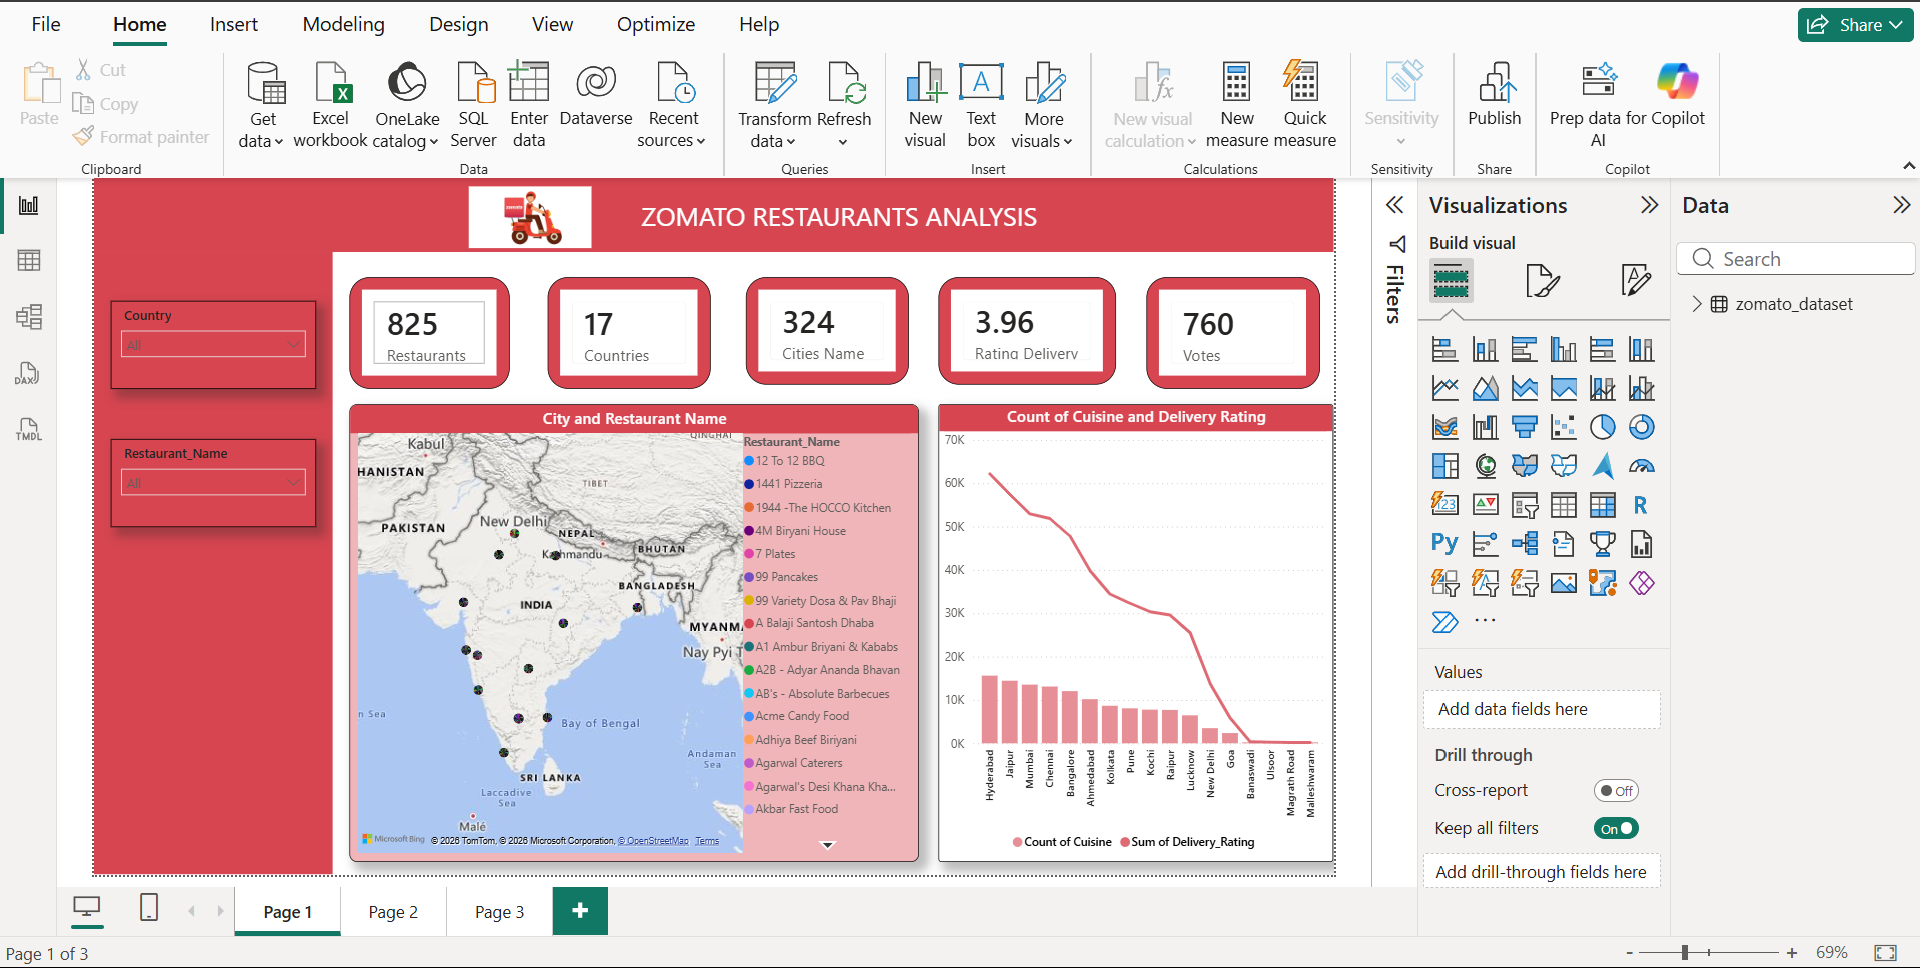

What the dashboard file says about the page in this screenshot:
{"tool":"powerbi","page":{"name":"Page 1","canvas":[1280,720],"ordinal":0},"visuals":[{"type":"shape","box":[0,0,1280.1,76.4],"z":0},{"type":"textbox","box":[520.4,15.9,498.8,47.6],"z":1000},{"type":"cardVisual","fields":{"Data":["Count(zomato_dataset.Restaurant_Name)"]},"box":[263.8,102.4,165.8,115.3],"z":2000},{"type":"shape","box":[0,76.4,246.5,642.9],"z":3000},{"type":"cardVisual","fields":{"Data":["Count(zomato_dataset.City)"]},"box":[468.5,102.4,168.7,115.3],"z":4000},{"type":"cardVisual","fields":{"Data":["Count(zomato_dataset.Place_Name)"]},"box":[673.2,102.4,168.7,111],"z":5000},{"type":"cardVisual","fields":{"Data":["Avg(zomato_dataset.Delivery_Rating)"]},"box":[872.2,102.4,183.1,111],"z":6000},{"type":"cardVisual","fields":{"Data":["Count(zomato_dataset.Votes)"]},"box":[1086.9,102.4,178.8,115.3],"z":7000},{"type":"map","title":"City and  Restaurant Name","fields":{"Category":["zomato_dataset.City"],"Series":["zomato_dataset.Restaurant_Name"]},"box":[263.8,233.5,588.2,472.8],"z":8000},{"type":"lineStackedColumnComboChart","title":"Count of Cuisine and Delivery Rating","fields":{"Category":["zomato_dataset.City"],"Y2":["Sum(zomato_dataset.Delivery_Rating)"],"Y":["CountNonNull(zomato_dataset.Cuisine )"]},"box":[872.2,233.5,408,472.8],"z":9000},{"type":"image","box":[380.6,8.6,139.8,63.4],"z":10000},{"type":"slicer","fields":{"Values":["zomato_dataset.City"]},"box":[17.3,126.9,211.9,90.8],"z":11000},{"type":"slicer","fields":{"Values":["zomato_dataset.Restaurant_Name"]},"box":[17.3,269.6,211.9,90.8],"z":11001}]}

Visuals, with their boxes on the page's 1280x720 design canvas (x1, y1, x2, y2). These are canvas units, not pixel positions in the 1920x968 screenshot, which may show the page scaled, cropped or inside an application window:
shape: [left=0, top=0, right=1280, bottom=76]
textbox: [left=520, top=16, right=1019, bottom=64]
cardVisual - Count(zomato_dataset.Restaurant_Name): [left=264, top=102, right=430, bottom=218]
shape: [left=0, top=76, right=246, bottom=719]
cardVisual - Count(zomato_dataset.City): [left=468, top=102, right=637, bottom=218]
cardVisual - Count(zomato_dataset.Place_Name): [left=673, top=102, right=842, bottom=213]
cardVisual - Avg(zomato_dataset.Delivery_Rating): [left=872, top=102, right=1055, bottom=213]
cardVisual - Count(zomato_dataset.Votes): [left=1087, top=102, right=1266, bottom=218]
"City and  Restaurant Name" map: [left=264, top=234, right=852, bottom=706]
"Count of Cuisine and Delivery Rating" lineStackedColumnComboChart: [left=872, top=234, right=1280, bottom=706]
image: [left=381, top=9, right=520, bottom=72]
slicer - zomato_dataset.City: [left=17, top=127, right=229, bottom=218]
slicer - zomato_dataset.Restaurant_Name: [left=17, top=270, right=229, bottom=360]
